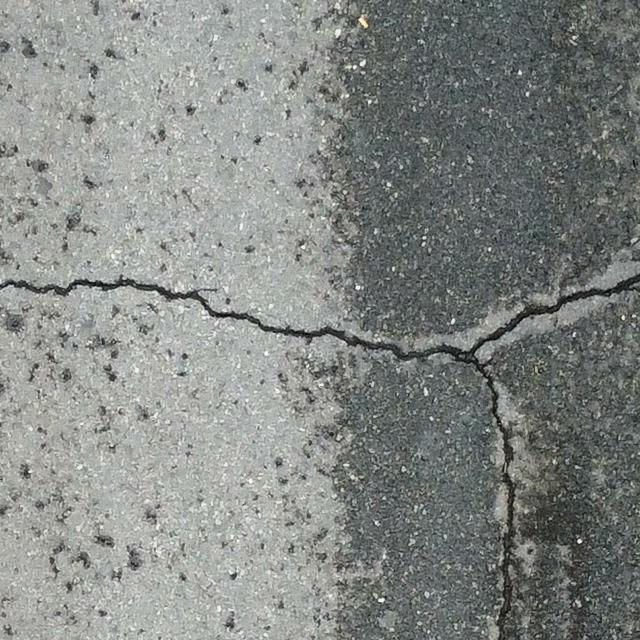LongitudinalCrack: (472, 362, 516, 640)
TransverseCrack: (1, 275, 640, 360)
